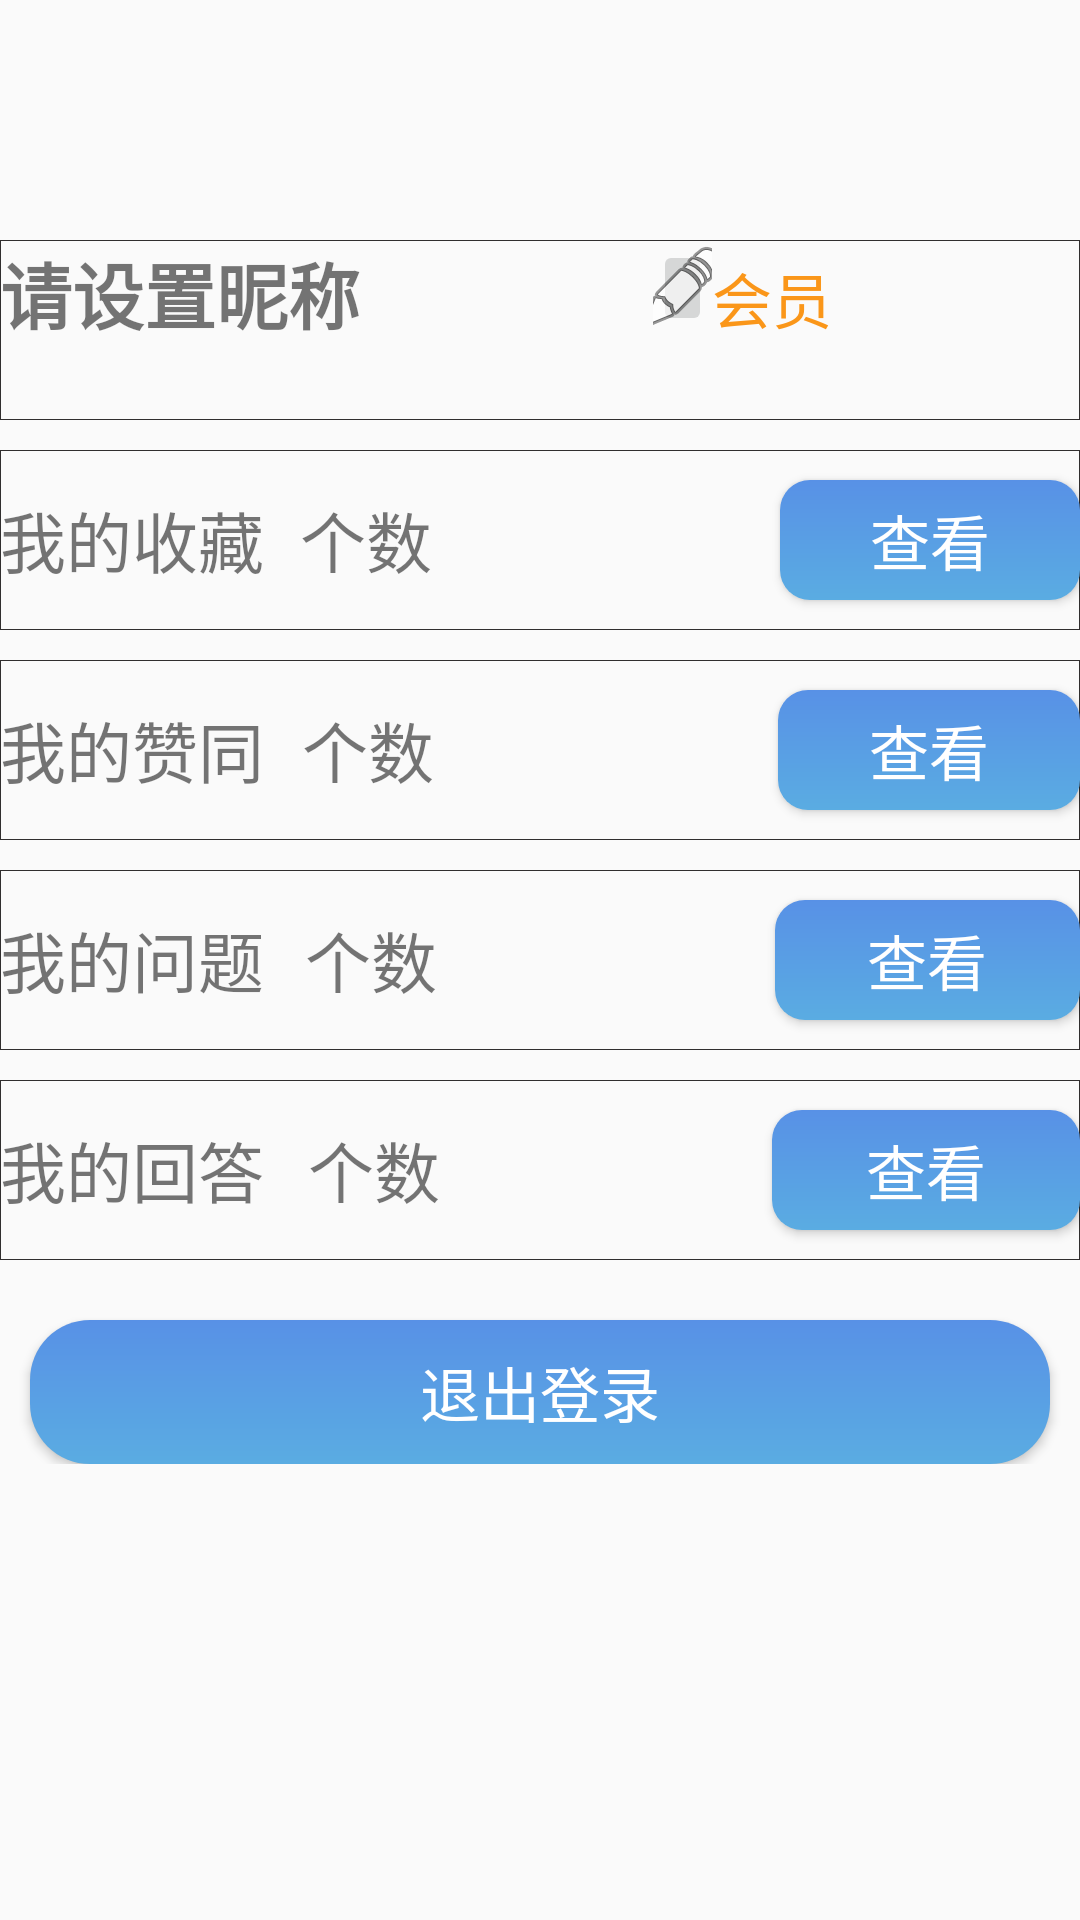

Point at icon controls on the screen. Image size 1080x1920, points as [x,y].
edit: [682,286]
